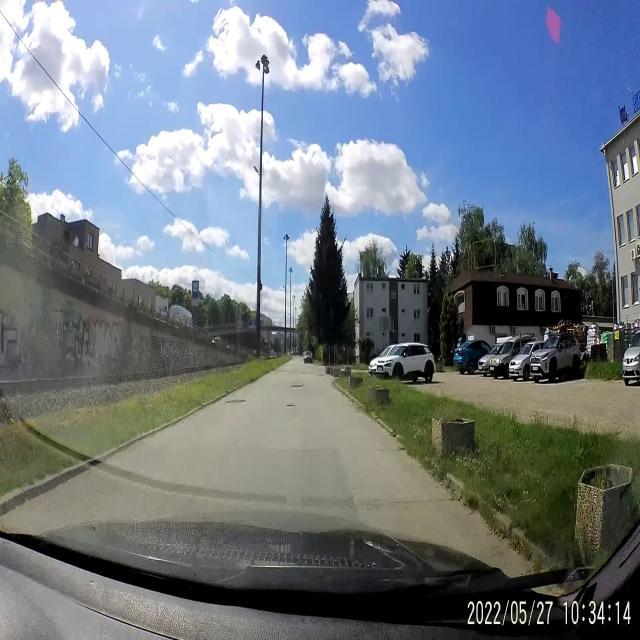Pothole: (222, 396, 250, 406), (290, 381, 308, 392), (284, 400, 297, 410), (317, 372, 326, 380)
